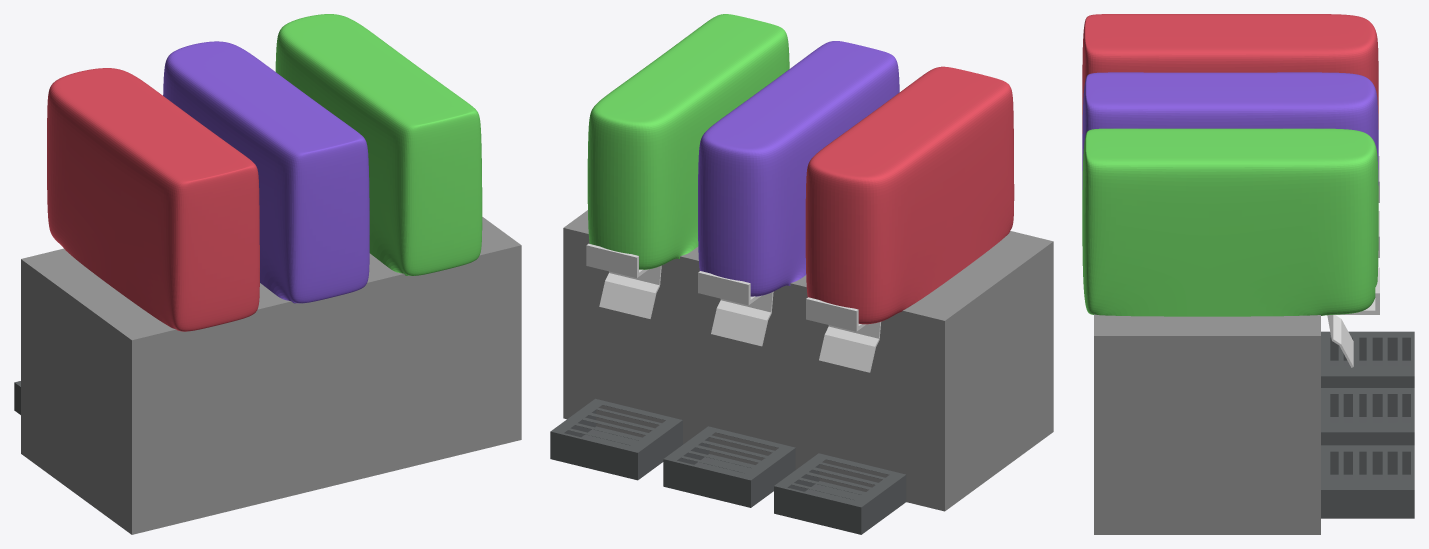
Rendered from Bebidas.fbx.
3 views of the same model, side by side, from view 1: azimuth 30°, elevation 25°; view 2: azimuth 150°, elevation 25°; view 3: azimuth 270°, elevation 25° (orthographic). The views are drawn at different scales.
Parts seen in each view (by area): view 1: Cube, Cube.002, Cube.006, Cube.001; view 2: Cube, Cube.002, Cube.006, Cube.001, Cube.003, Cube.007, Cube.004, Cubo.003, Cubo.005, Cubo, Cubo.002, Cubo.004 (+1 smaller); view 3: Cube.006, Cube, Cube.002, Cube.001, Cube.007, Cube.004, Cube.003, Cubo.005.
Boxes of the visible parts, box(x1,y1,x2,y2) form: Cube: box(21, 217, 521, 534); Cube.002: box(47, 68, 259, 331); Cube.006: box(275, 14, 482, 275); Cube.001: box(163, 41, 369, 303); Cube: box(563, 210, 1053, 511); Cube.002: box(805, 66, 1014, 324); Cube.006: box(587, 14, 789, 269); Cube.001: box(698, 41, 899, 296); Cube.003: box(774, 453, 906, 534); Cube.007: box(550, 398, 682, 480); Cube.004: box(663, 426, 795, 507); Cubo.003: box(711, 291, 773, 346); Cubo.005: box(599, 265, 661, 318); Cubo: box(819, 322, 880, 372); Cubo.002: box(698, 271, 761, 305); Cubo.004: box(586, 243, 648, 277); Cube.006: box(1082, 128, 1378, 316); Cube: box(1094, 314, 1320, 534); Cube.002: box(1082, 14, 1378, 133); Cube.001: box(1082, 72, 1378, 189); Cube.007: box(1321, 445, 1414, 518); Cube.004: box(1321, 388, 1414, 445); Cube.003: box(1321, 331, 1414, 387); Cubo.005: box(1327, 315, 1353, 367).
Bounding box in the file's own units: 524 × 441 × 379.
